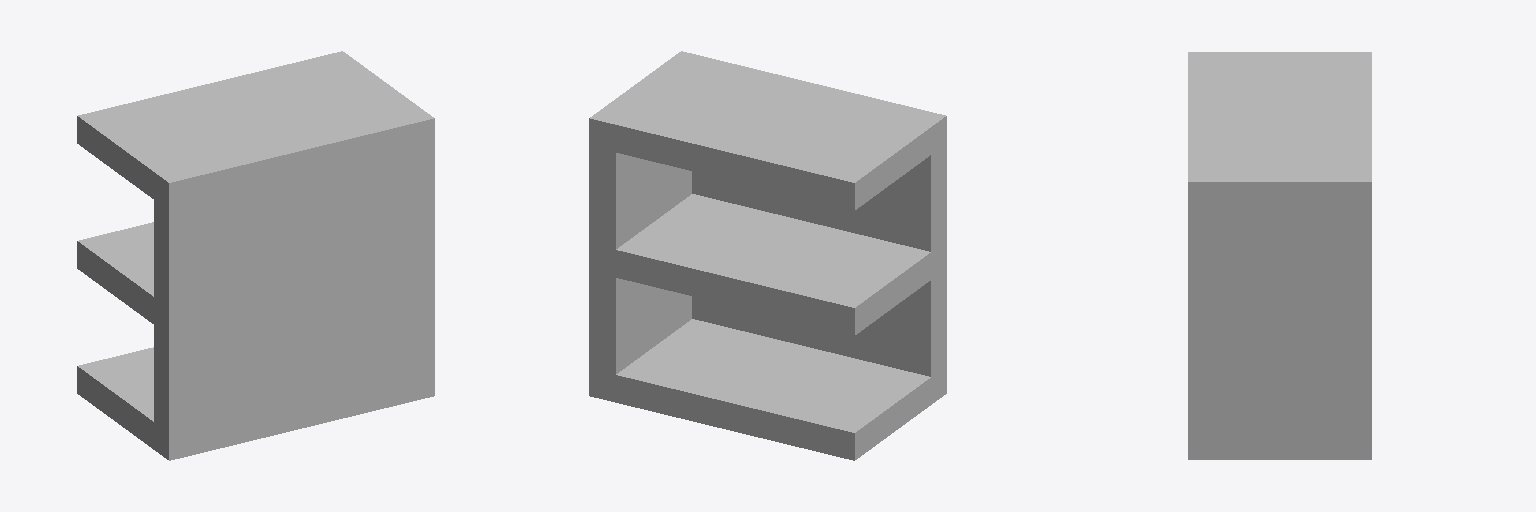
Rendered from pcity_nodes_shelf_1_double_shallow_left.obj.
3 renders of one model, left to right at view 1: azimuth 30°, elevation 25°; view 2: azimuth 150°, elevation 25°; view 3: azimuth 270°, elevation 25°, orthographic.
Visible parts, largest first — view 1: Shelf_Left.003; view 2: Shelf_Left.003; view 3: Shelf_Left.003.
Boxes of the visible parts, x1=… form: Shelf_Left.003: x1=77, y1=51, x2=434, y2=460; Shelf_Left.003: x1=589, y1=51, x2=946, y2=460; Shelf_Left.003: x1=1188, y1=52, x2=1371, y2=459.
Bounding box in the file's own units: 1 × 1 × 0.6.